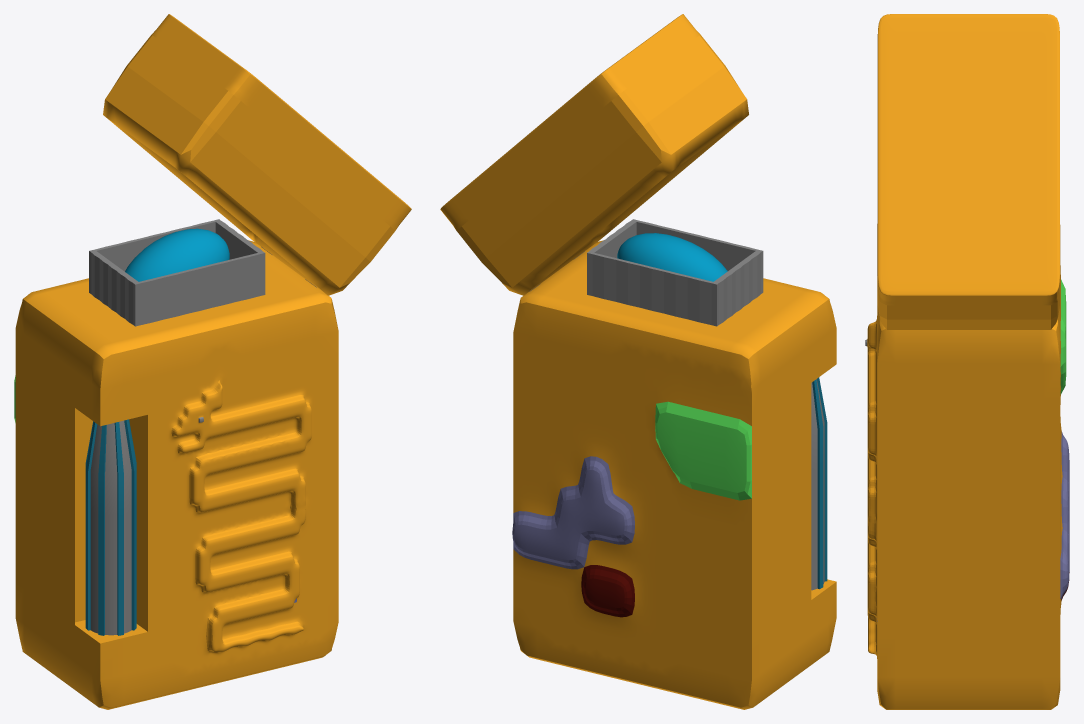
File: 打火機.FBX
The picture shows the model from 3 angles, left to right: view 1: azimuth 30°, elevation 25°; view 2: azimuth 150°, elevation 25°; view 3: azimuth 270°, elevation 25°; orthographic projection. The views are drawn at different scales.
Visible parts, largest first — view 1: Box001, Box002, Cone005, Sphere001; view 2: Box001, Box002, Cone005, Sphere001; view 3: Box001, Box002.
Boxes of the visible parts, x1,y1,x2,y2 form: Box001: [14, 219, 338, 709]; Box002: [103, 14, 411, 295]; Cone005: [85, 419, 136, 635]; Sphere001: [125, 228, 229, 281]; Box001: [512, 219, 836, 709]; Box002: [440, 14, 748, 295]; Cone005: [811, 377, 827, 590]; Sphere001: [617, 233, 727, 281]; Box001: [865, 224, 1069, 709]; Box002: [877, 14, 1059, 329].
Size of the model in its own units: 27.54 by 50.6 by 14.32.
